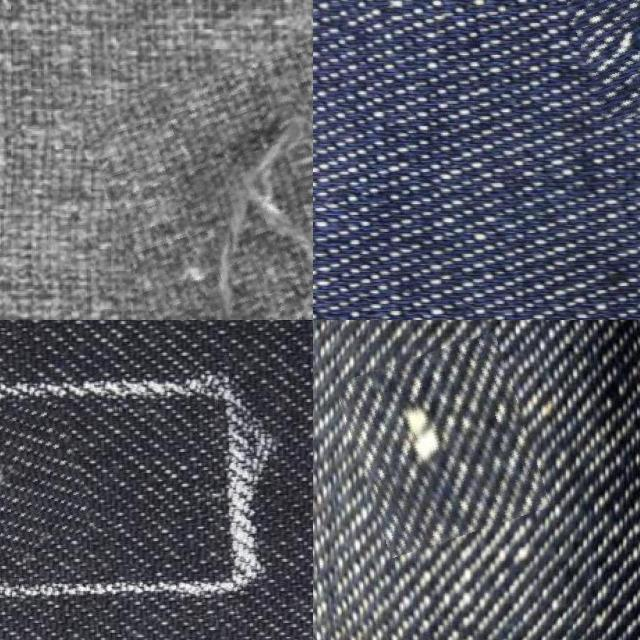stains: (104, 40, 313, 320), (347, 342, 539, 546), (0, 409, 90, 578), (572, 0, 640, 112)
